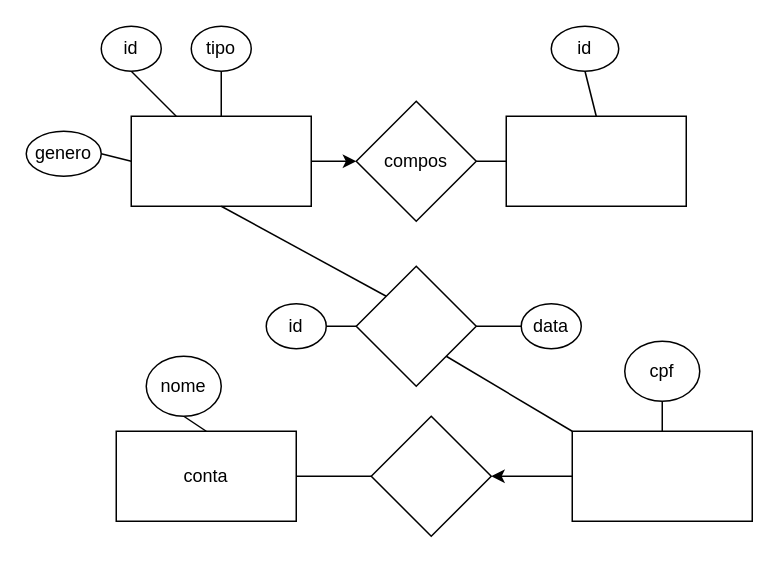
The diagram is 779 pixels wide and 563 high, and some of its shapes have lost their labels. Here are the shapes that lost their labels. From the top down, the centre of each, then its label:
At point (220, 160): "conteudo".
At point (595, 160): "autor".
At point (415, 325): "acessou".
At point (430, 475): "viculo".
At point (661, 475): "usuario".
